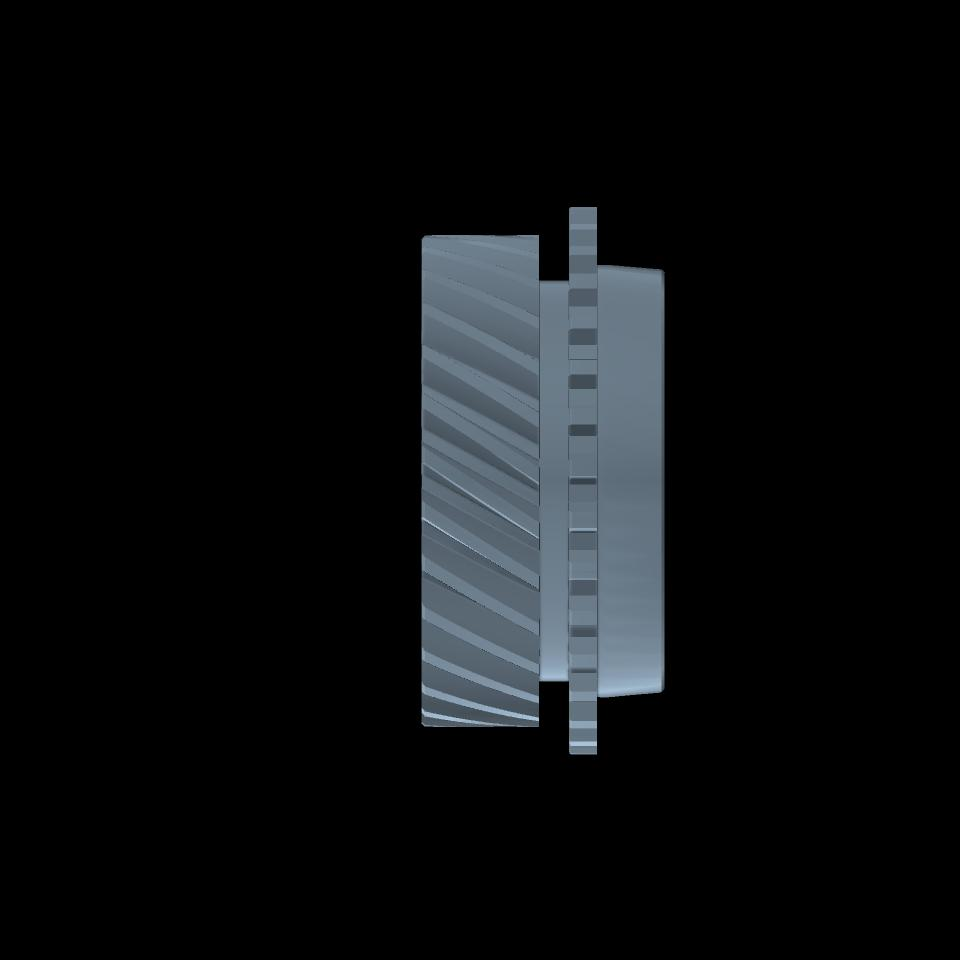Helical: (420, 235, 538, 726)
Straight: (570, 204, 597, 754)
